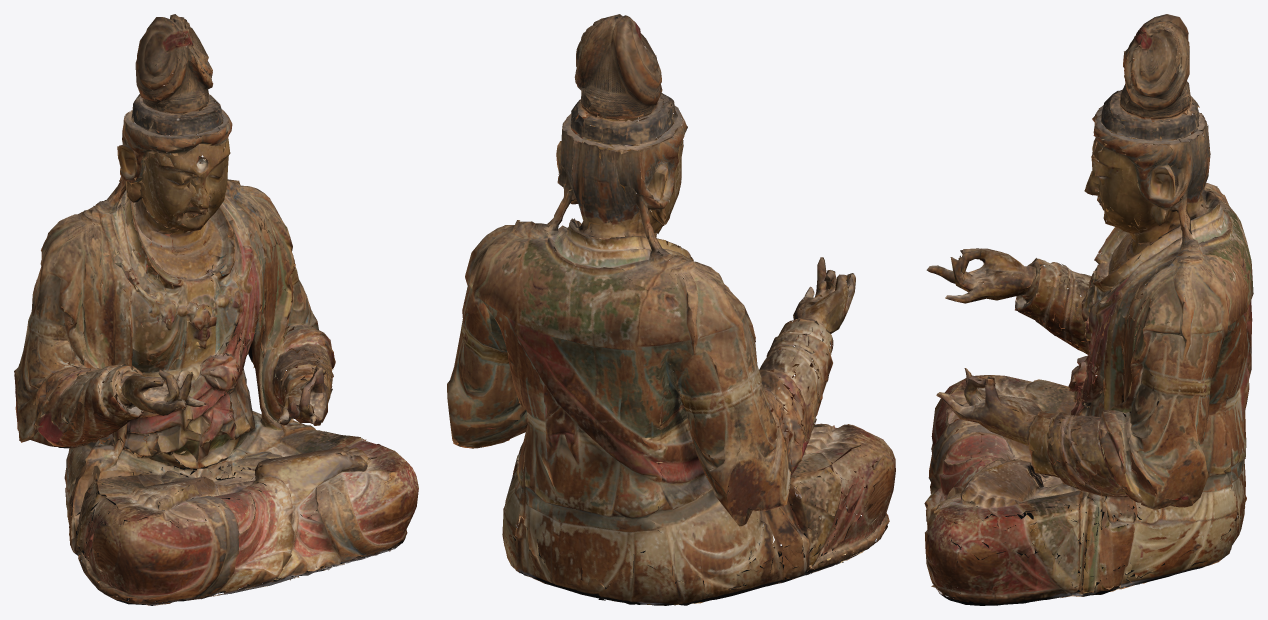
File: guanyin-sculpted.glb
The picture shows the model from 3 angles, left to right: view 1: azimuth 30°, elevation 25°; view 2: azimuth 150°, elevation 25°; view 3: azimuth 270°, elevation 25°; orthographic projection. The views are drawn at different scales.
Parts seen in each view (by area): view 1: Object_3.001, Object_2.001; view 2: Object_2.001, Object_3.001; view 3: Object_2.001, Object_3.001.
Part boxes in pixels (bbox=[...]): Object_3.001: bbox=[30, 33, 418, 605]; Object_2.001: bbox=[14, 14, 413, 600]; Object_2.001: bbox=[447, 14, 888, 605]; Object_3.001: bbox=[513, 41, 895, 585]; Object_2.001: bbox=[944, 14, 1253, 605]; Object_3.001: bbox=[924, 28, 1156, 605].
Bounding box in the file's own units: 1.14 × 1.77 × 1.02.
1 material, 1 textured.
